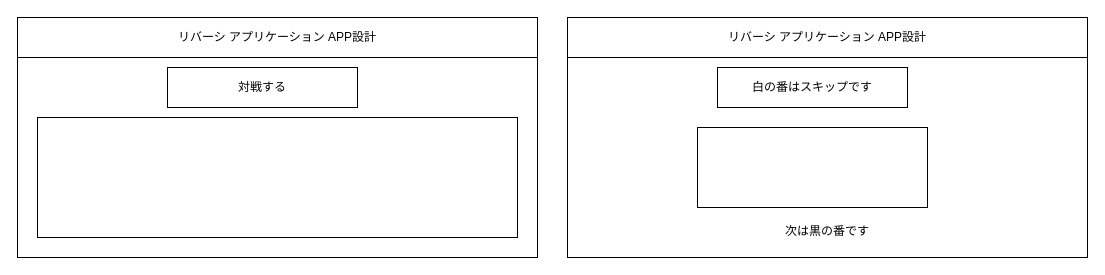
Some shapes in this 1105 by 275 pixel diagram are drawn without their labels. The shapes that lost their labels are listed below. From the top down, each one's centre as x and y in pixels, then its label:
At point 277,177: "過去の対戦結果".
At point 812,167: "盤面".
